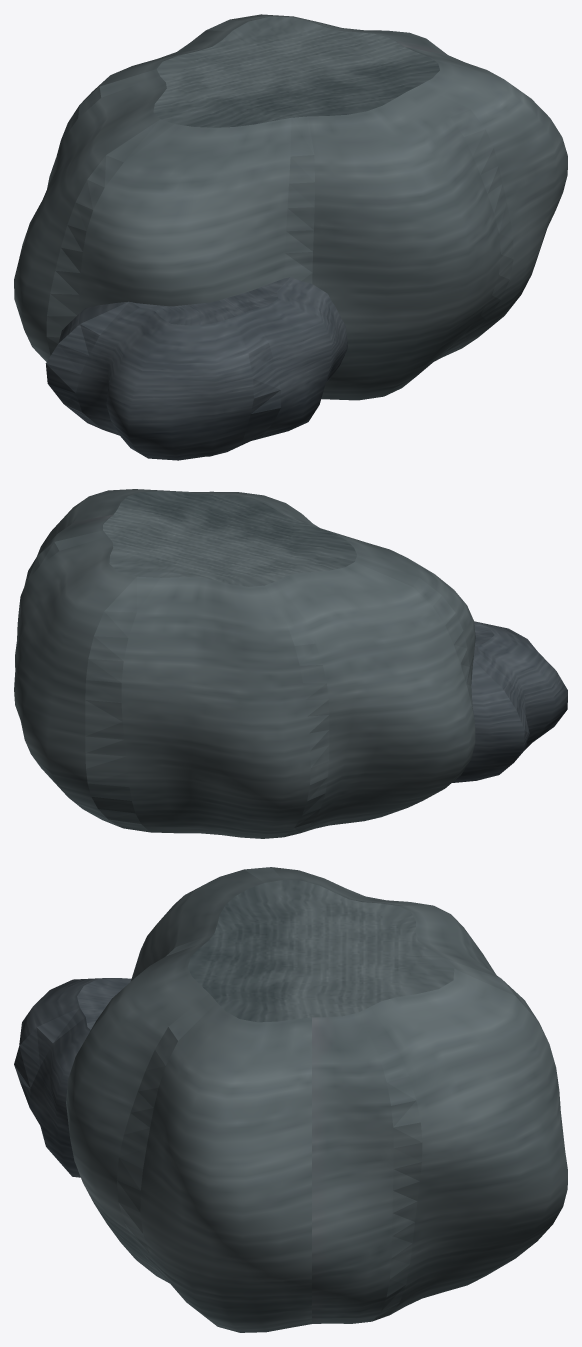
File: alpine_slate_rock.glb
3 views of the same model, one above another, from view 1: azimuth 30°, elevation 25°; view 2: azimuth 150°, elevation 25°; view 3: azimuth 270°, elevation 25° (orthographic). The views are drawn at different scales.
Parts seen in each view (by area): view 1: alpine_slate_rock; view 2: alpine_slate_rock; view 3: alpine_slate_rock.
Boxes of the visible parts, bbox=[...] form: alpine_slate_rock: bbox=[14, 14, 567, 460]; alpine_slate_rock: bbox=[14, 489, 567, 838]; alpine_slate_rock: bbox=[14, 867, 567, 1332].
Size of the model in its own units: 2.8 by 1.45 by 2.3.
1 material, 1 textured.
